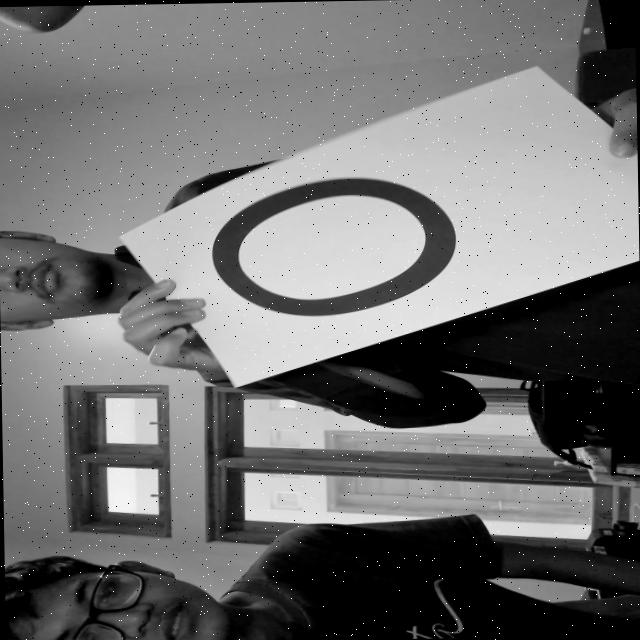o: (191, 171, 484, 326)
